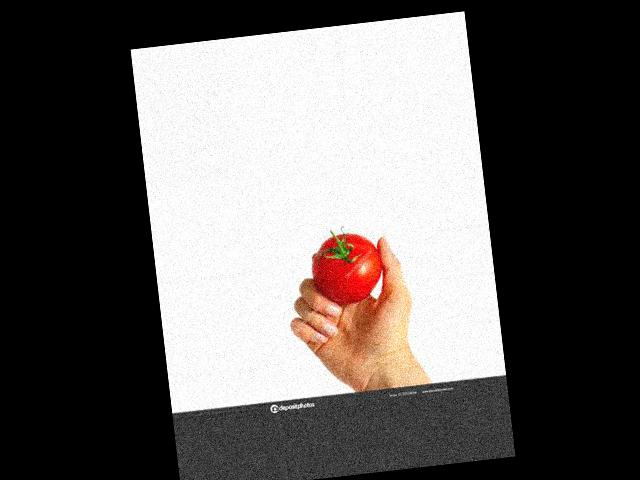tomato: (310, 230, 385, 308)
